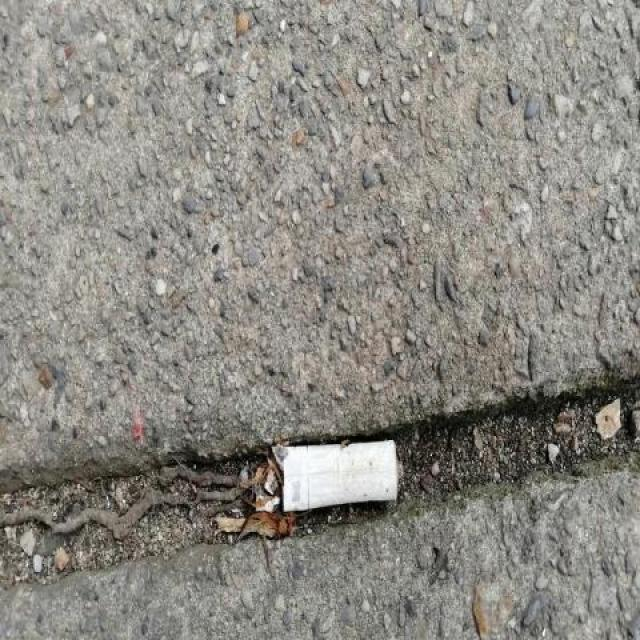non-organic waste: (262, 430, 414, 518)
